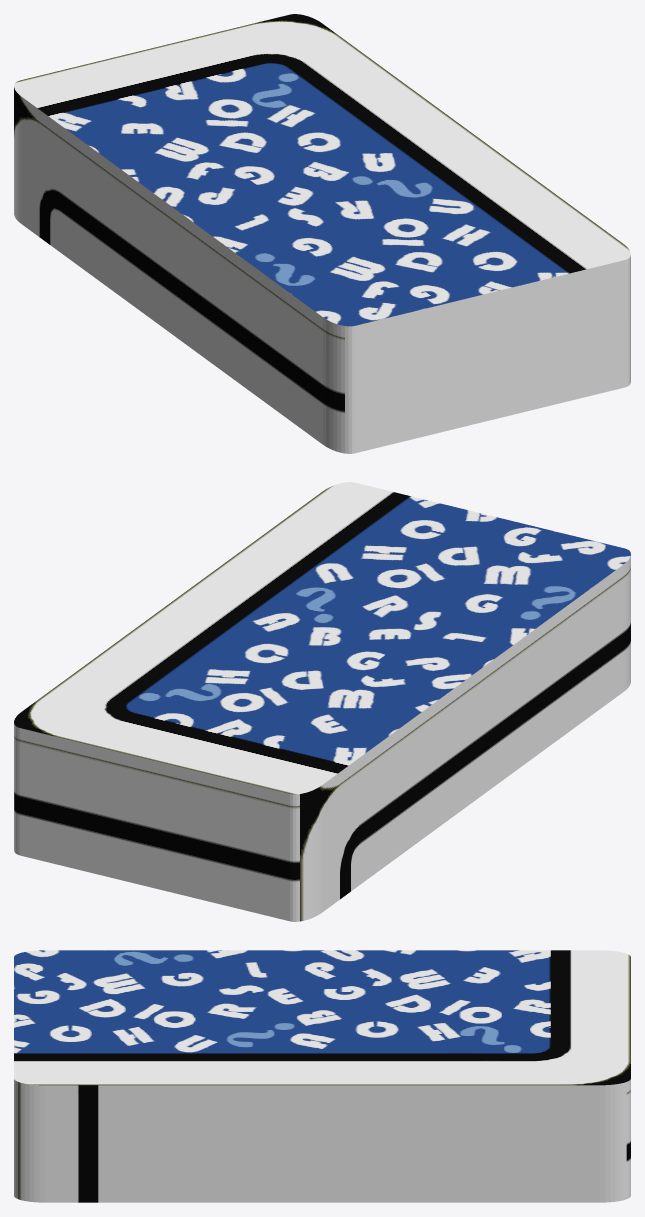
The model's file is Carte2.fbx.
The picture shows the model from 3 angles, top to bottom: view 1: azimuth 30°, elevation 25°; view 2: azimuth 150°, elevation 25°; view 3: azimuth 270°, elevation 25°; orthographic projection. The views are drawn at different scales.
Visible parts, largest first — view 1: Cube; view 2: Cube; view 3: Cube.
Part boxes in pixels (x1=…): Cube: x1=14, y1=14, x2=630, y2=453; Cube: x1=14, y1=482, x2=630, y2=921; Cube: x1=14, y1=950, x2=630, y2=1202.
Bounding box in the file's own units: 249 × 101 × 481.
1 material, 1 textured.
